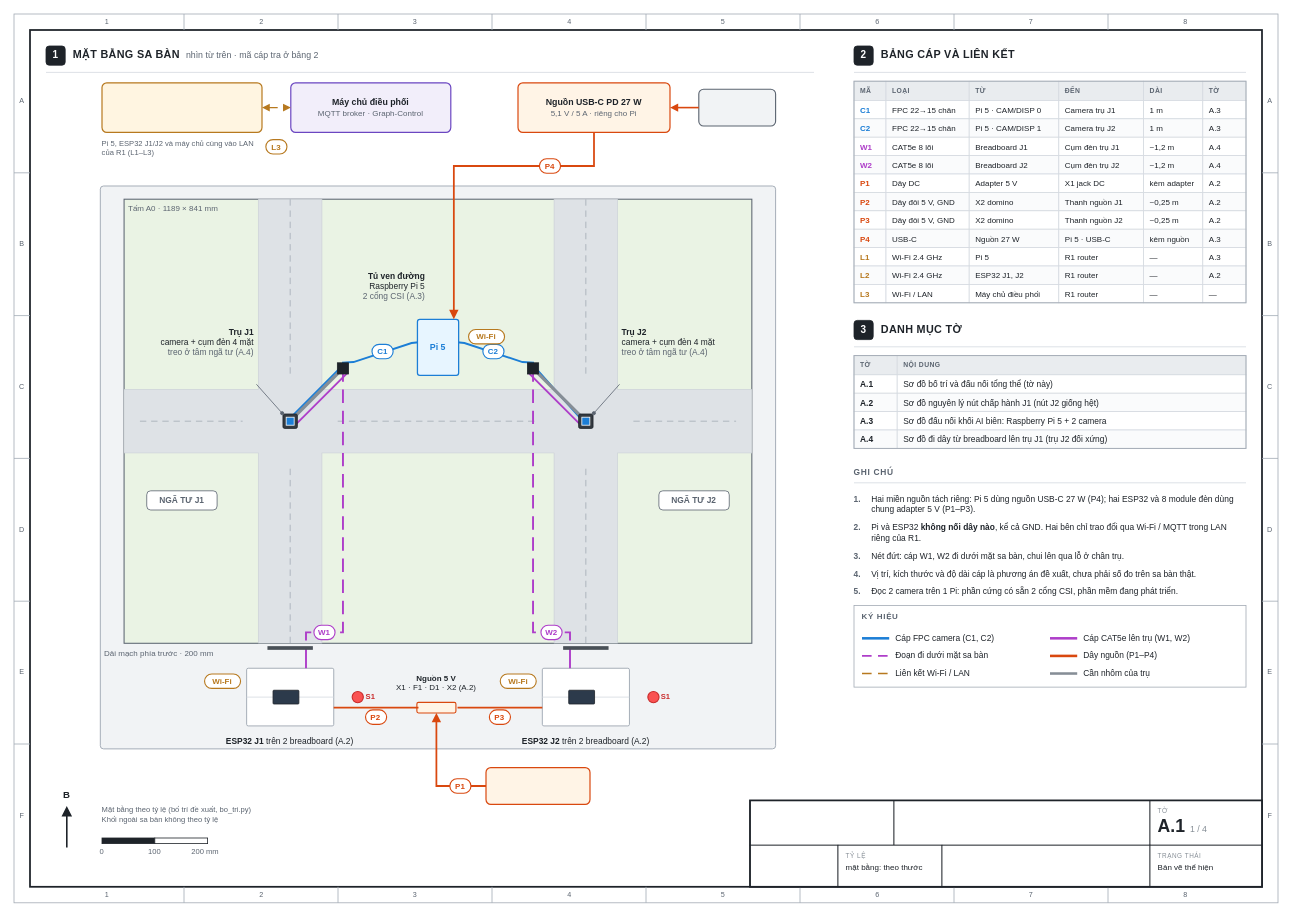
Some shapes in this 1293 by 918 pixel diagram are drawn without their labels. Each missing label, with the centre of its shape:
Adapter 5 V / 4 A cắm ổ 220 V: the point at 537,786
EdgeFlow AI Đội 31µF · VEDC 2026: the point at 821,822
NGUỒN SỐ LIỆU Bố trí theo bo_tri.py (đề xuất); chân, cổng theo A.2–A.4: the point at 1045,865
NGÀY 11/10/2026: the point at 793,865
R1 · Router Wi-Fi 2.4 GHz LAN riêng, không cần Internet: the point at 181,107
TÊN BẢN VẼ Sơ đồ bố trí và đấu nối tổng thể hệ thống phần cứng: the point at 1021,822
Ổ cắm 220 V: the point at 737,107
